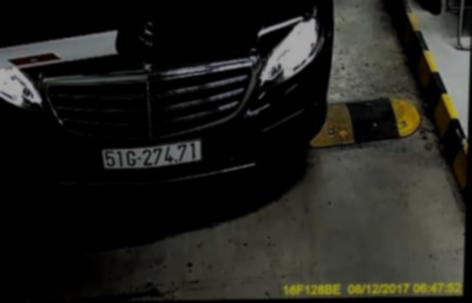License_Plate: (95, 141, 209, 173)
